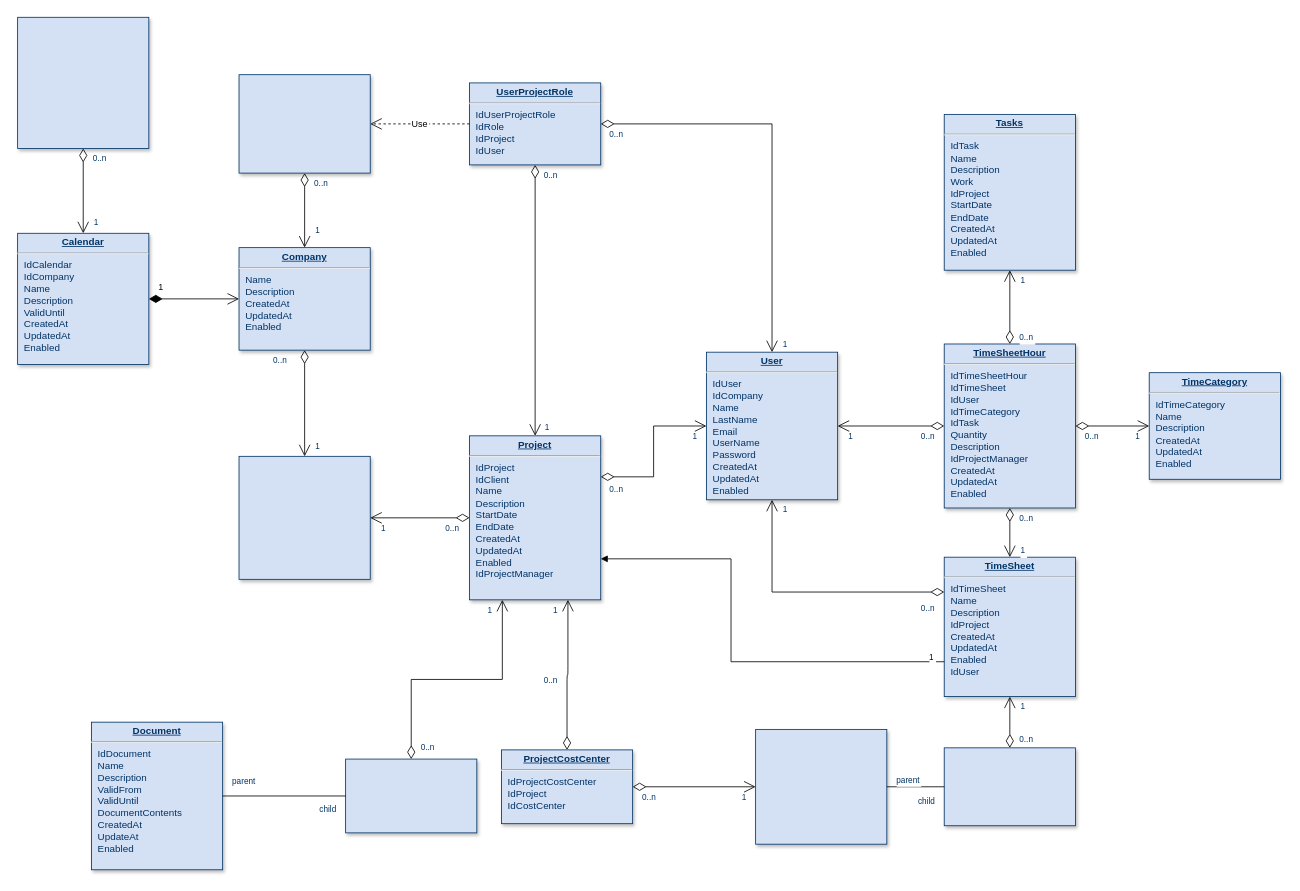
This 1300x891 diagram has some shape labels left out. Each missing label, with the centre of its shape:
"Client IdClient IdCompany Name Description CreatedAt UpdatedAt Enabled" belongs at (305,518).
"CostCenter IdCostCenter Name Description CreatedAt UpdatedAt Enabled" belongs at (822,787).
"Holiday IdHoliday IdCalendar Name Description Date CreatedAt UpdatedAt Enabled" belongs at (84,83).
"ProjectDocument IdProjectDocument IdProject IdDocument" belongs at (412,797).
"Role IdCompany Name Description CreatedAt UpdatedAt Enabled" belongs at (305,125).
"TimeSheetCostCenter IdTimeSheetCostCenter IdTimeSheet IdCostCenter" belongs at (1010,787).
